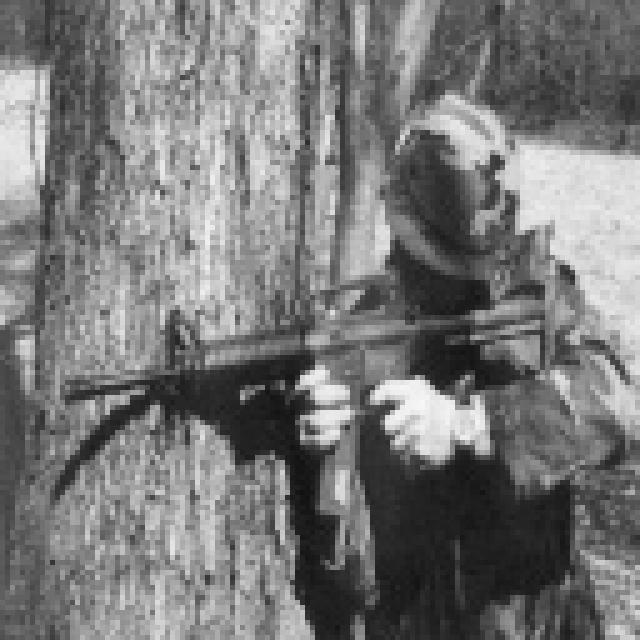Rifle: (23, 245, 637, 578)
